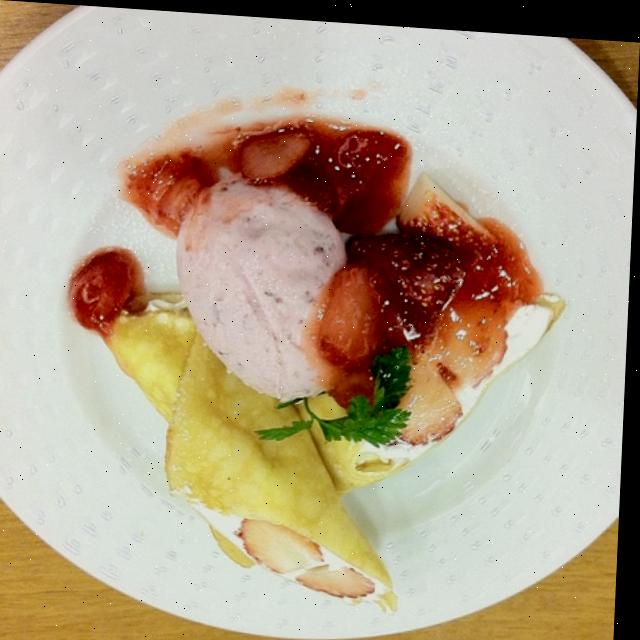蛋糕甜品: (45, 24, 569, 616)
